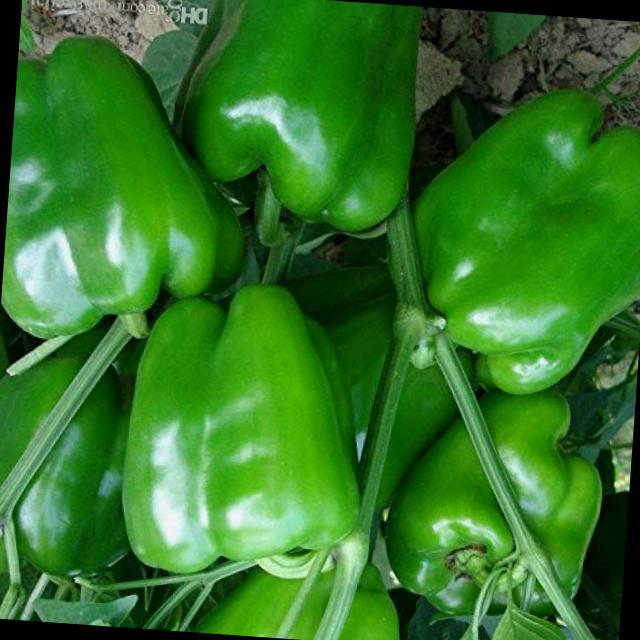Capsicum: (0, 34, 246, 341), (123, 286, 360, 582), (416, 88, 640, 397), (177, 1, 419, 247), (392, 391, 604, 621)
